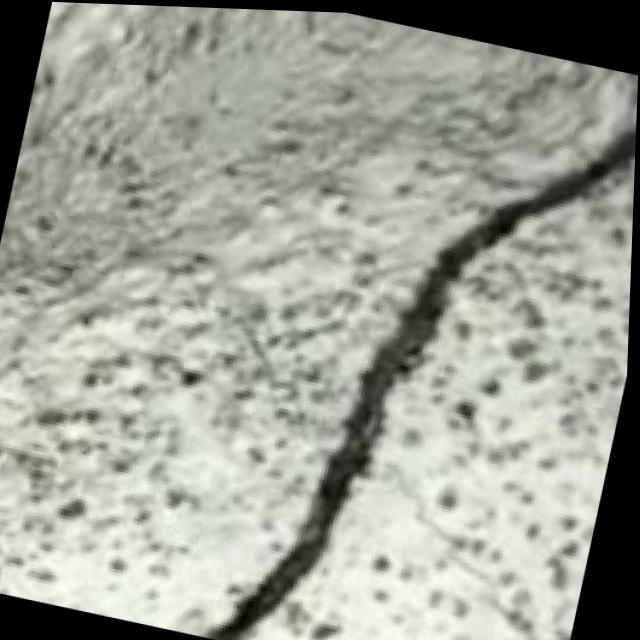Crack: (149, 5, 640, 640)
